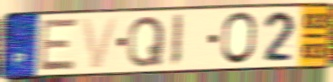2: (261, 9, 297, 66)
E: (37, 17, 80, 73)
I: (169, 13, 186, 69)
O: (219, 10, 259, 67)
Q: (126, 14, 167, 70)
V: (80, 15, 121, 71)
